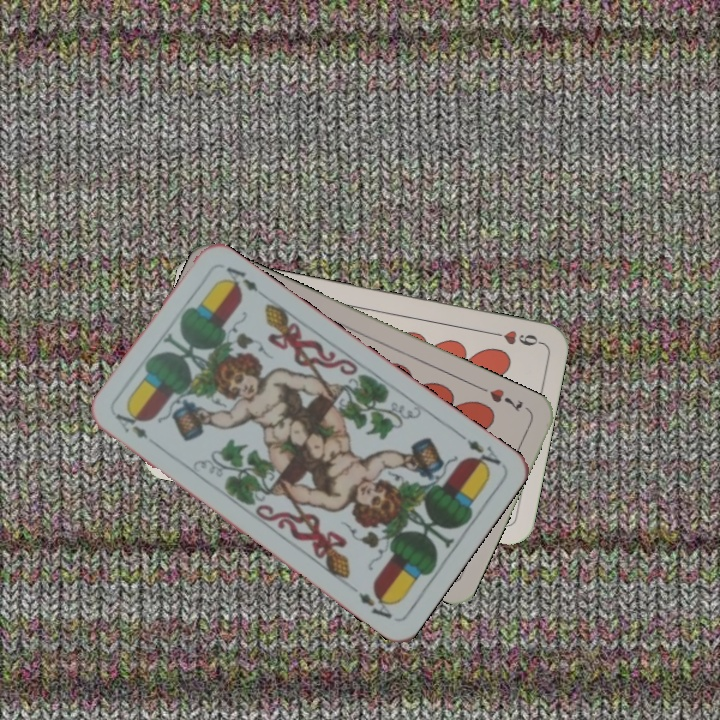EA: (454, 429, 504, 474), (111, 409, 162, 450)
H7: (475, 382, 526, 415)
H9: (485, 326, 543, 349)
